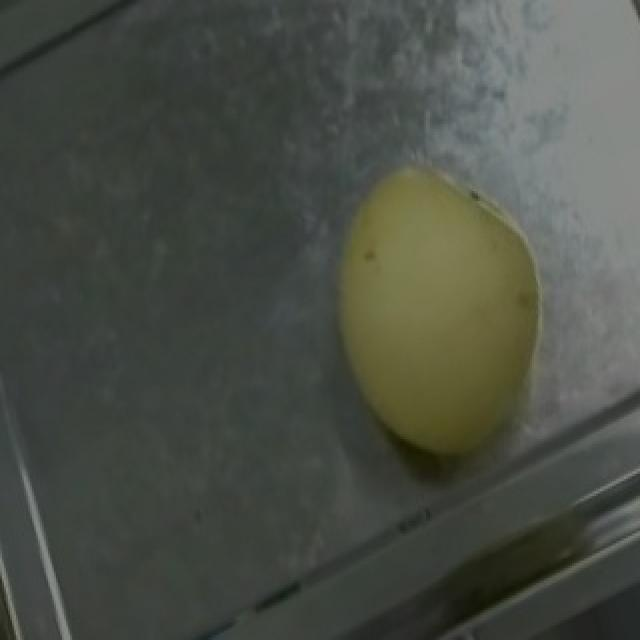Fruit: (282, 121, 594, 498)
